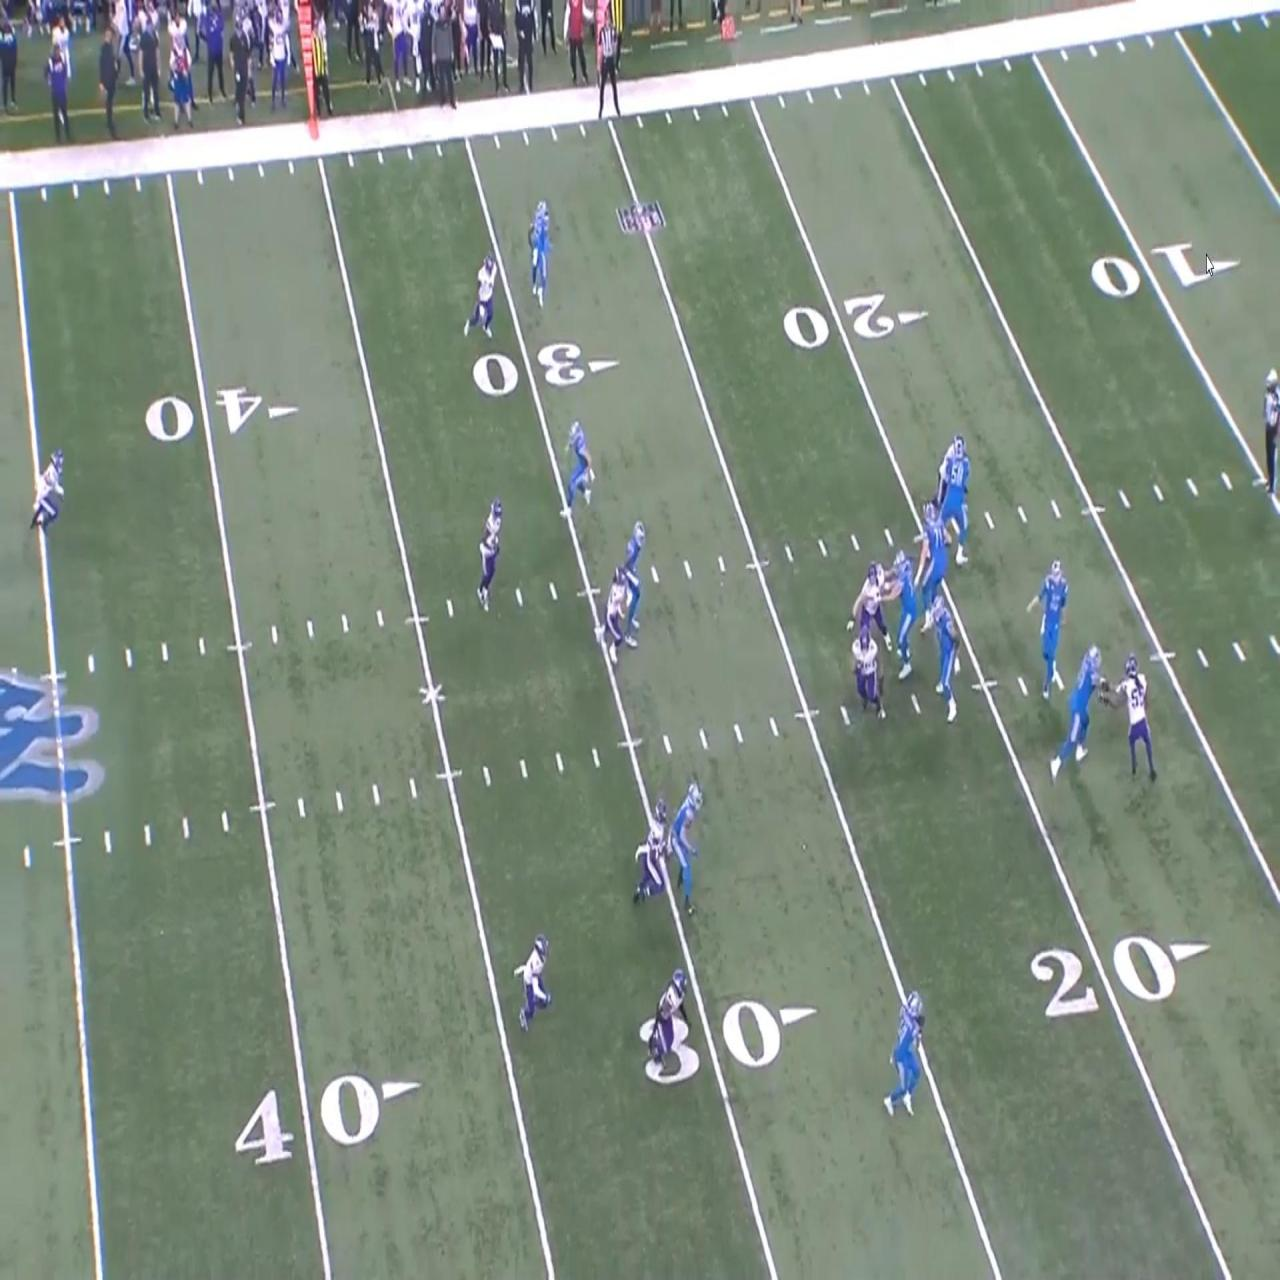10R: (1090, 242, 1240, 298)
20R: (1030, 934, 1211, 1016), (783, 291, 929, 349)
30R: (637, 998, 817, 1086), (472, 343, 621, 398)
40R: (234, 1074, 422, 1168), (146, 384, 298, 444)
